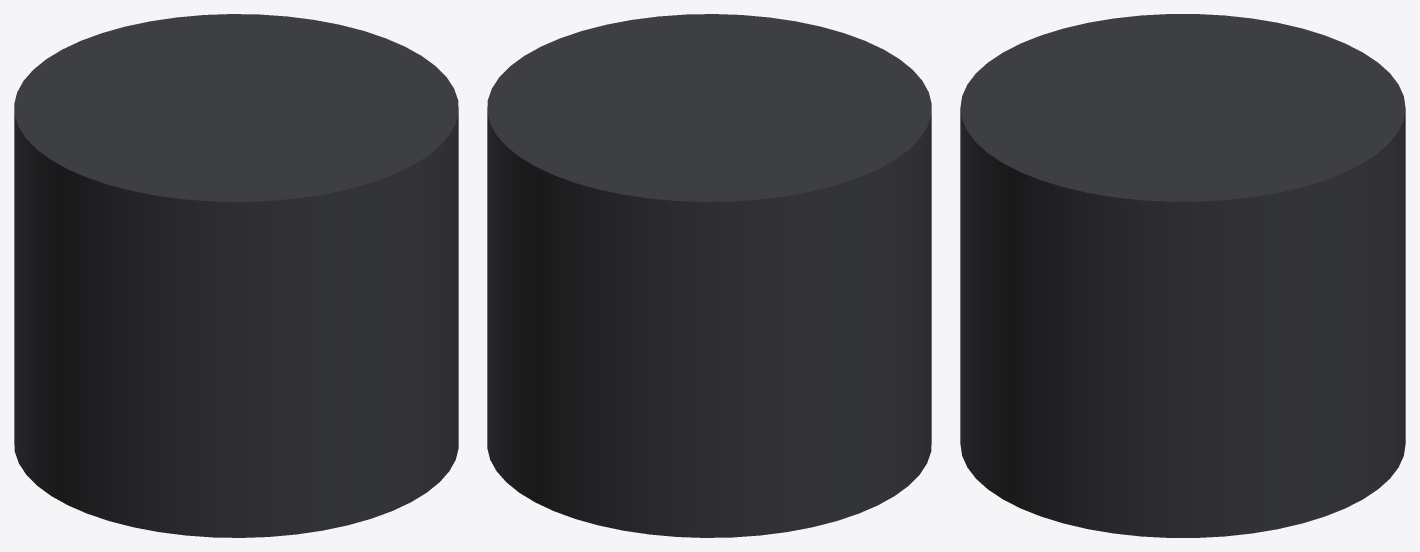
The model's file is rod-small.obj.
3 renders of one model, left to right at view 1: azimuth 30°, elevation 25°; view 2: azimuth 150°, elevation 25°; view 3: azimuth 270°, elevation 25°, orthographic.
Visible parts, largest first — view 1: Cylinder; view 2: Cylinder; view 3: Cylinder.
Part boxes in pixels (box(x1,y1,x2,y2)): Cylinder: box(14, 14, 458, 537); Cylinder: box(487, 14, 931, 537); Cylinder: box(960, 14, 1405, 537).
Size of the model in its own units: 0.1198 by 0.1 by 0.12.
1 material, 1 textured.
